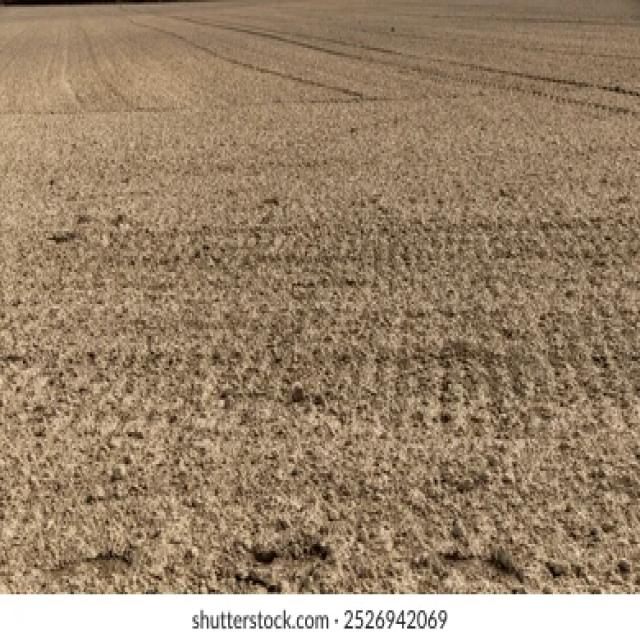suelo_seco: (118, 169, 527, 557)
